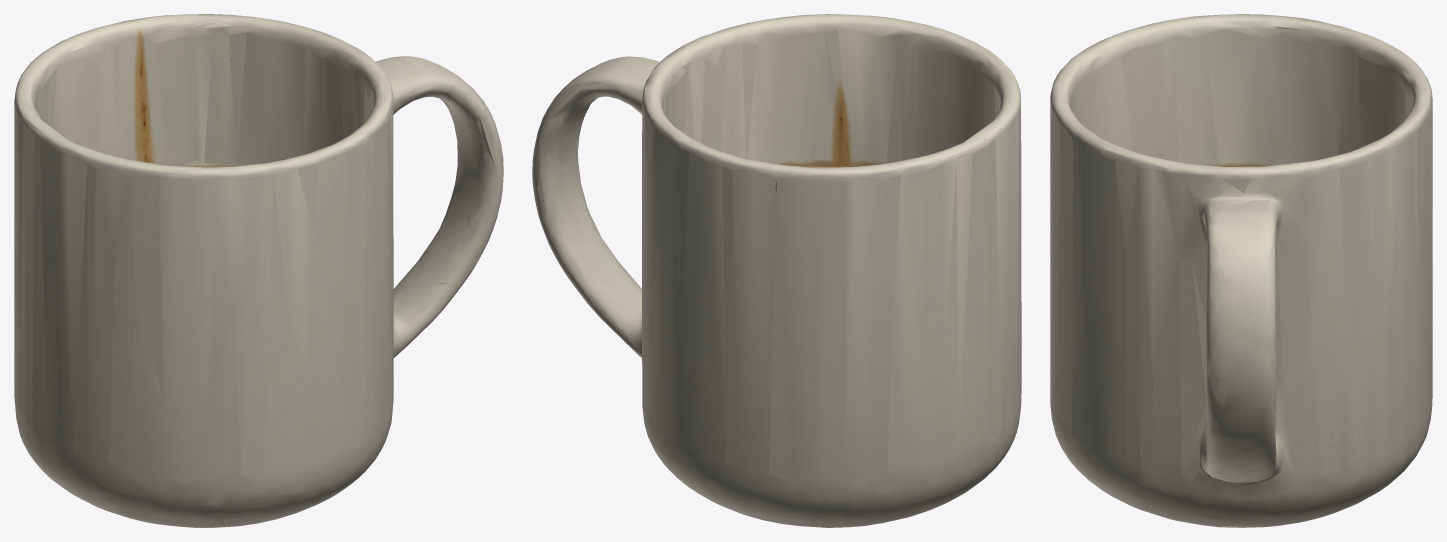
Rendered from CoffeeMug.fbx.
The picture shows the model from 3 angles, left to right: view 1: azimuth 30°, elevation 25°; view 2: azimuth 150°, elevation 25°; view 3: azimuth 270°, elevation 25°; orthographic projection.
Parts seen in each view (by area): view 1: Mesh_0; view 2: Mesh_0; view 3: Mesh_0.
Boxes of the visible parts, left/top/right/bottom form: Mesh_0: left=14, top=14, right=503, bottom=527; Mesh_0: left=532, top=14, right=1021, bottom=527; Mesh_0: left=1050, top=14, right=1432, bottom=527.
Bounding box in the file's own units: 190 × 152 × 139.
Materials: 1 (1 with a texture image).
